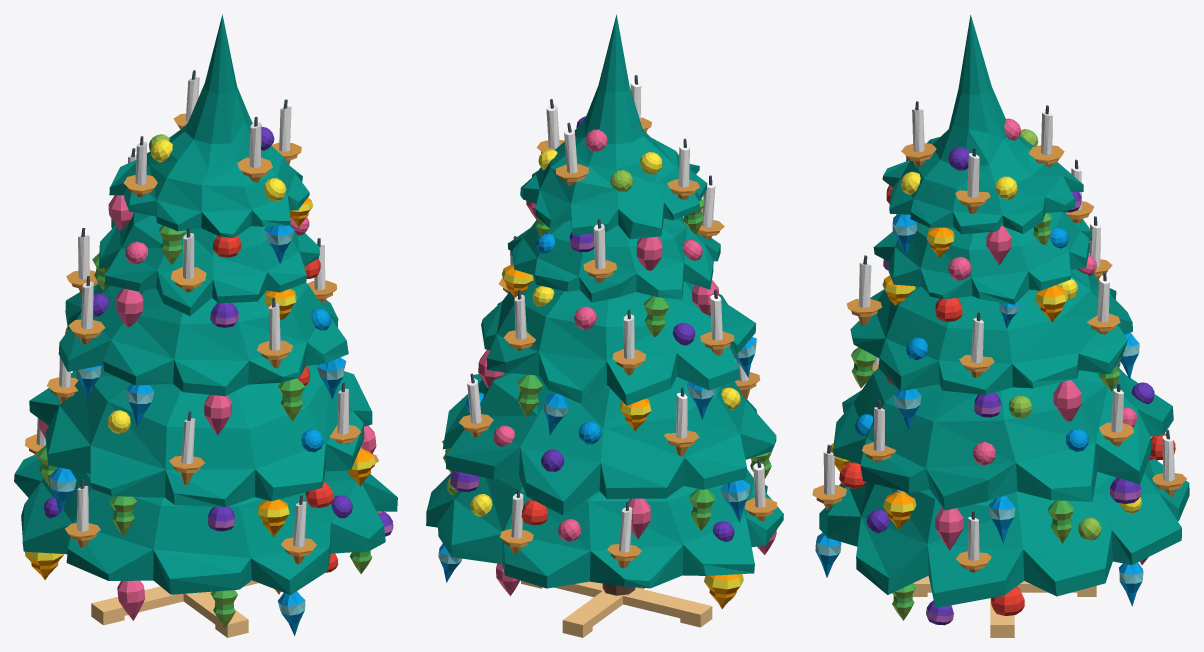
Rendered from christmas-tree.glb.
The picture shows the model from 3 angles, left to right: view 1: azimuth 30°, elevation 25°; view 2: azimuth 150°, elevation 25°; view 3: azimuth 270°, elevation 25°; orthographic projection. The views are drawn at different scales.
Visible parts, largest first — view 1: group1356770401; view 2: group1356770401; view 3: group1356770401.
Part boxes in pixels (x1,y1,x2,y2): group1356770401: [14, 14, 397, 637]; group1356770401: [426, 14, 783, 637]; group1356770401: [812, 15, 1189, 637].
Bounding box in the file's own units: 2.53 × 4.36 × 2.54.
